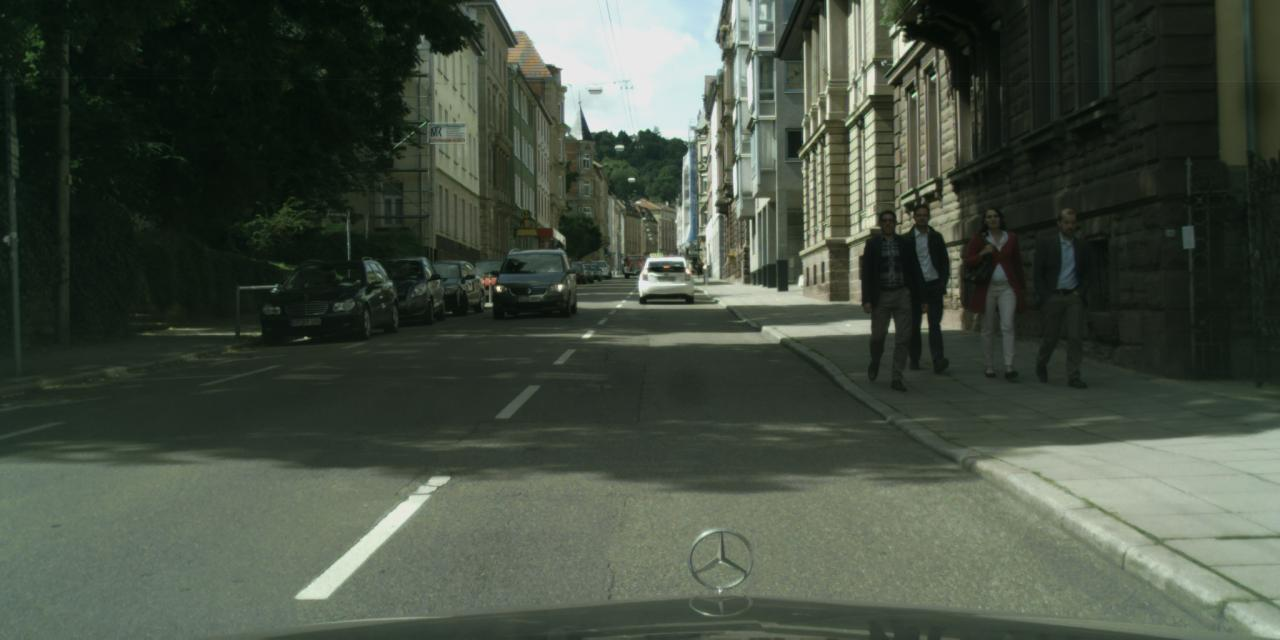ped: (1026, 208, 1098, 383), (850, 209, 920, 383), (961, 207, 1031, 376), (890, 203, 958, 369)
